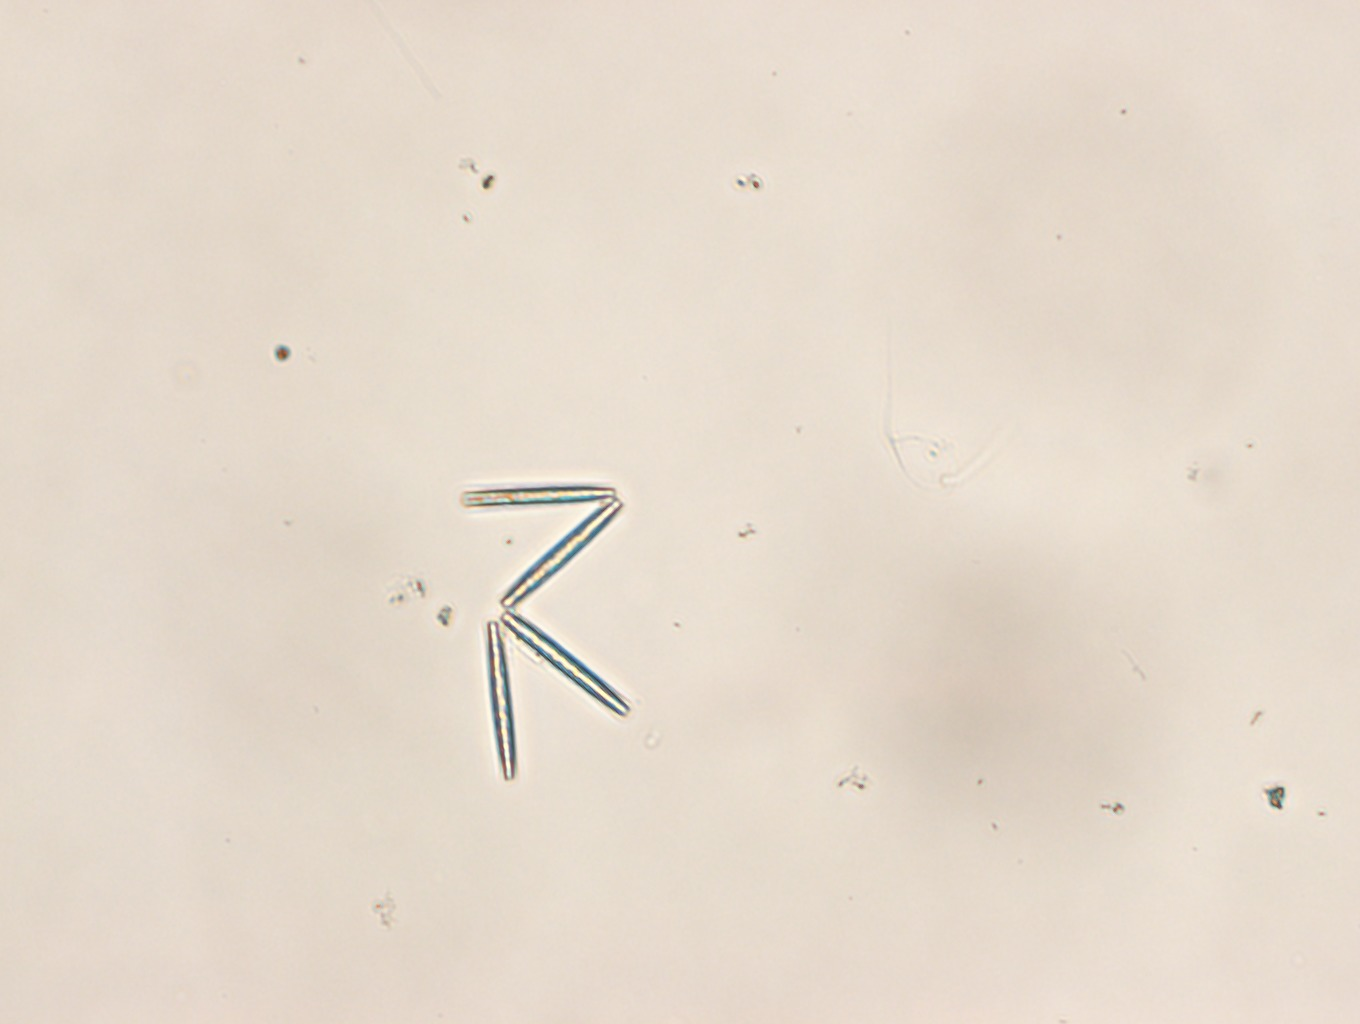thalassionema nitzschioides: (459, 486, 632, 786)
